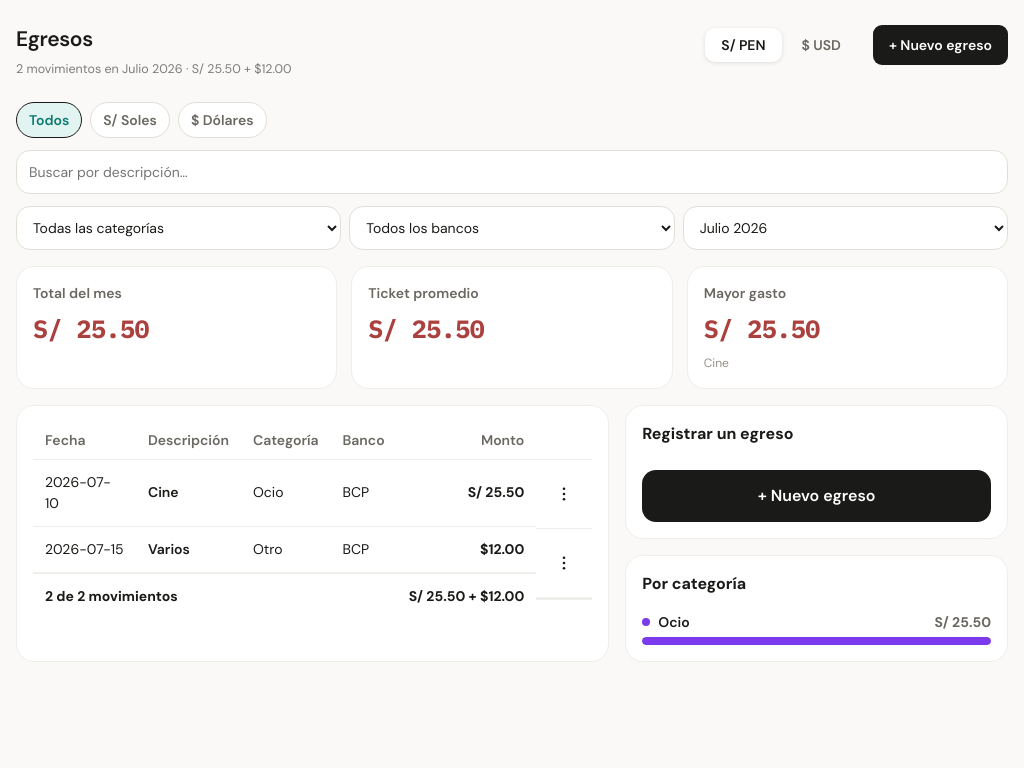
HistorialView — tabla, filtros y stat cards (rediseño "Caudal", Fase 2) › elegir "Todos los meses" muestra los 3 gastos
Select "Todos los meses" in the dropdown named "Filtrar por mes" at (845, 228), box [683,206,1008,250]
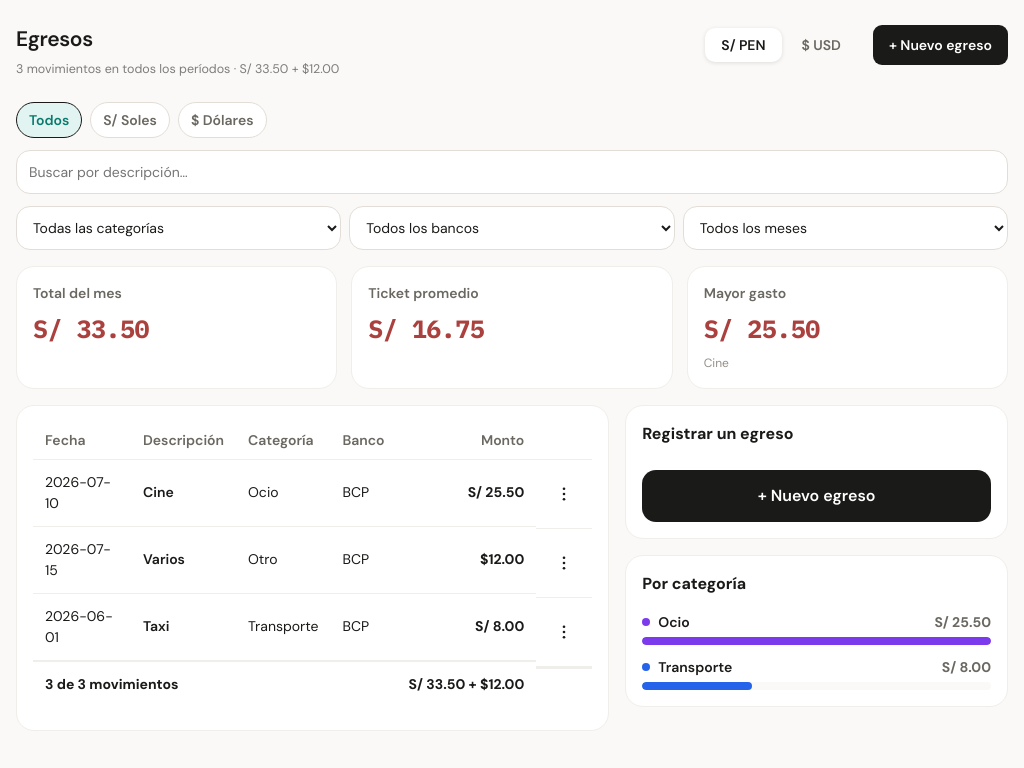
expect the text "Taxi" is shown: met, box [131,593,236,661]
